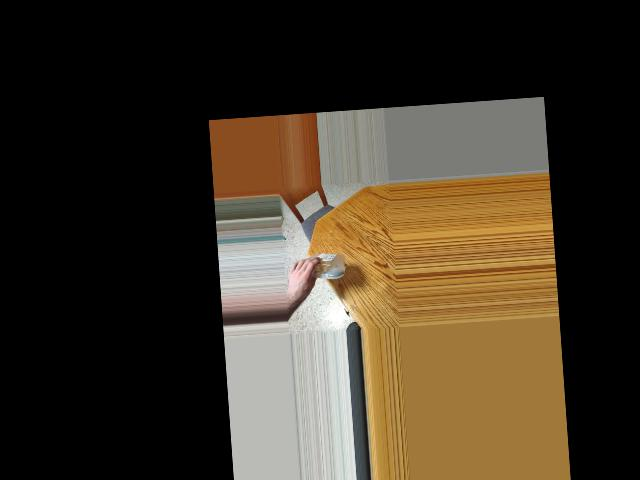cheese: (306, 242, 347, 297)
